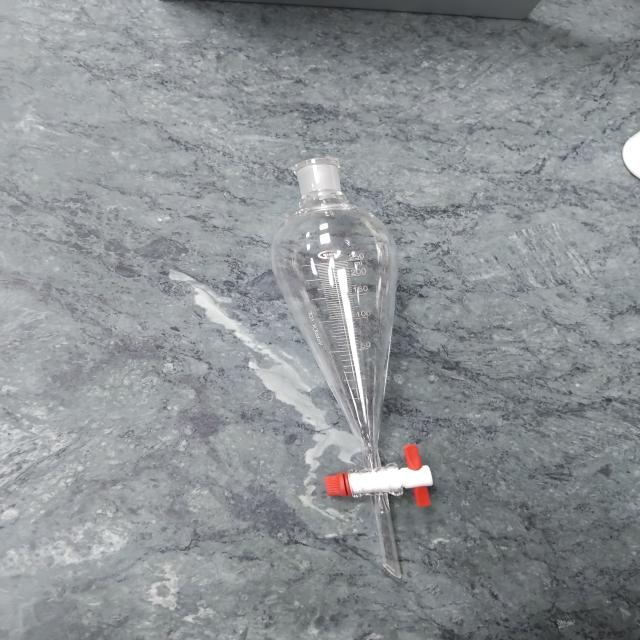Separating_Funnel: (217, 108, 502, 602)
